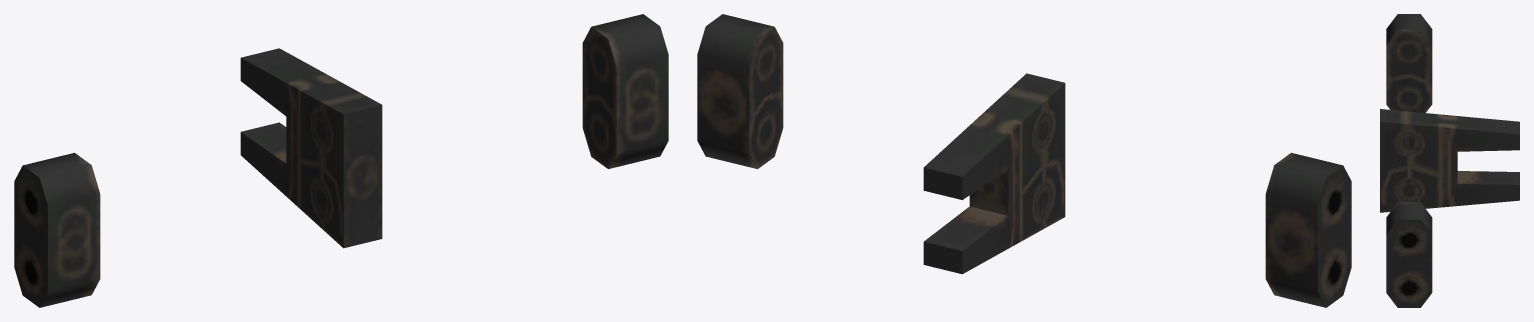
3 views of the same model, side by side, from view 1: azimuth 30°, elevation 25°; view 2: azimuth 150°, elevation 25°; view 3: azimuth 270°, elevation 25° (orthographic). The views are drawn at different scales.
Parts seen in each view (by area): view 1: set_0_group_0; view 2: set_0_group_0; view 3: set_0_group_0.
Part boxes in pixels (x1=…): set_0_group_0: x1=14, y1=14, x2=668, y2=307; set_0_group_0: x1=697, y1=14, x2=1351, y2=307; set_0_group_0: x1=1380, y1=14, x2=1519, y2=307.
Size of the model in its own units: 0.6344 by 0.1309 by 0.1823.
1 material, 1 textured.
